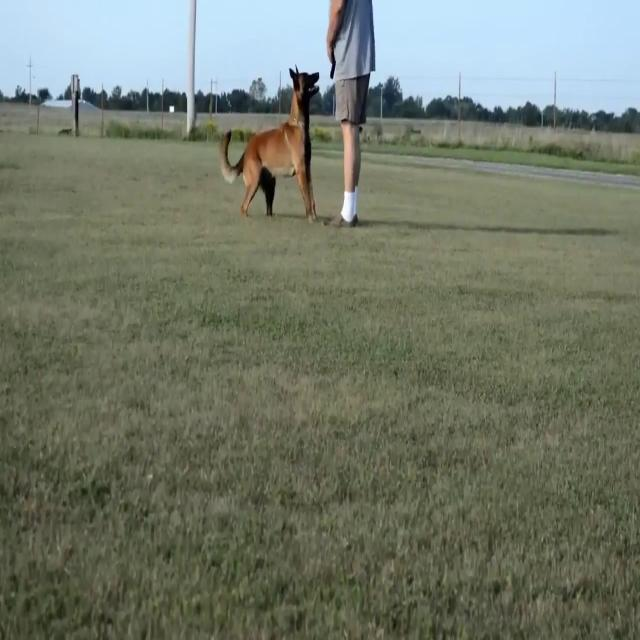Unleashed_Dog: (218, 65, 362, 226)
